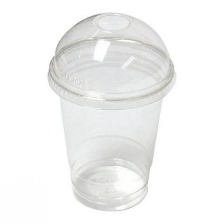glass: (39, 8, 183, 218)
